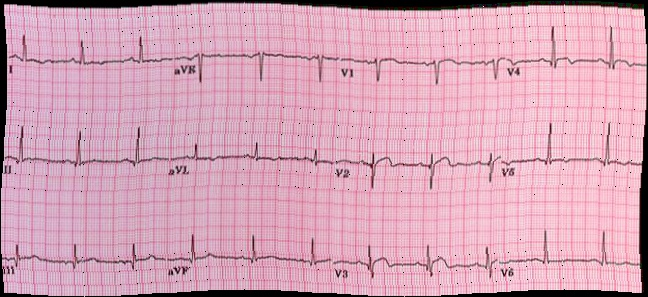Lead_I: (1, 26, 168, 88)
Lead_II: (0, 115, 169, 188)
Lead_III: (0, 232, 167, 287)
Lead_V1: (338, 41, 508, 86)
Lead_V2: (336, 142, 505, 185)
Lead_V3: (334, 235, 504, 288)
Lead_V4: (506, 14, 648, 88)
Lead_V5: (505, 114, 647, 198)
Lead_V6: (501, 225, 647, 291)
Lead_aVF: (167, 230, 336, 286)
Lead_aVL: (167, 130, 336, 185)
Lead_aVR: (168, 26, 338, 88)
